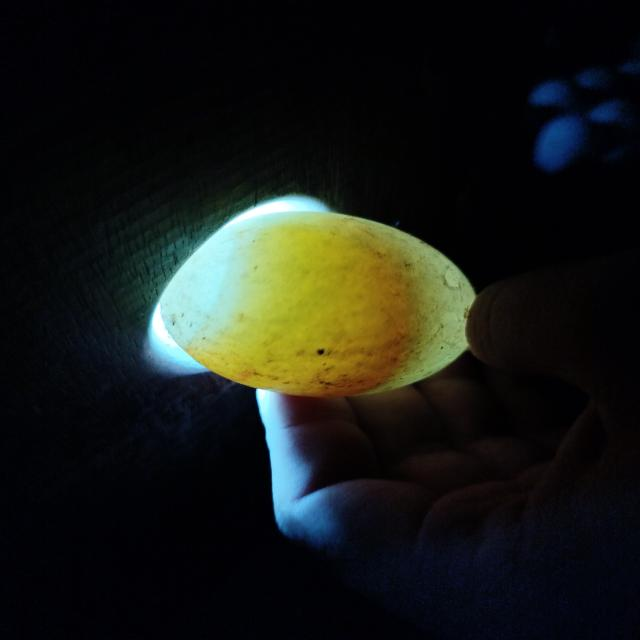Camara de Ar: (337, 212, 476, 396)
Gema Quebrada: (182, 210, 417, 397)
